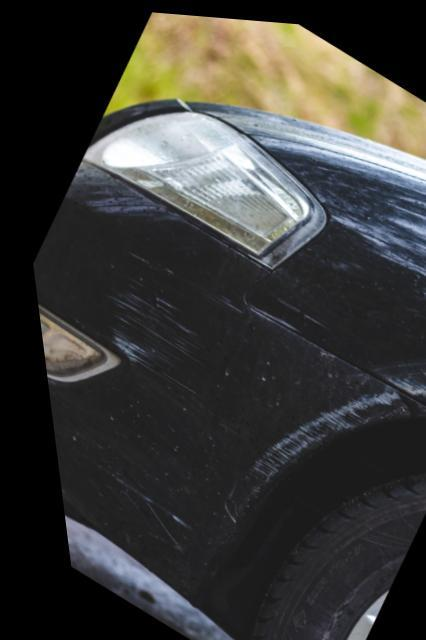scratch: (225, 381, 405, 497), (90, 250, 189, 396), (378, 372, 426, 392)
